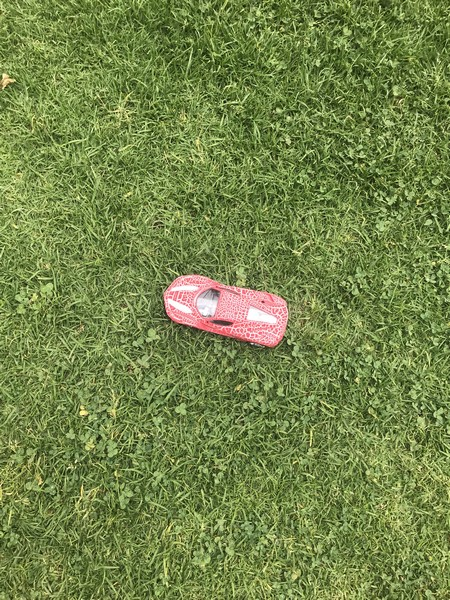RC: (161, 271, 291, 353)
